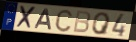4: (111, 13, 127, 38)
A: (34, 8, 53, 31)
B: (72, 10, 92, 34)
C: (54, 9, 74, 34)
Q: (91, 12, 112, 36)
X: (15, 5, 38, 30)
